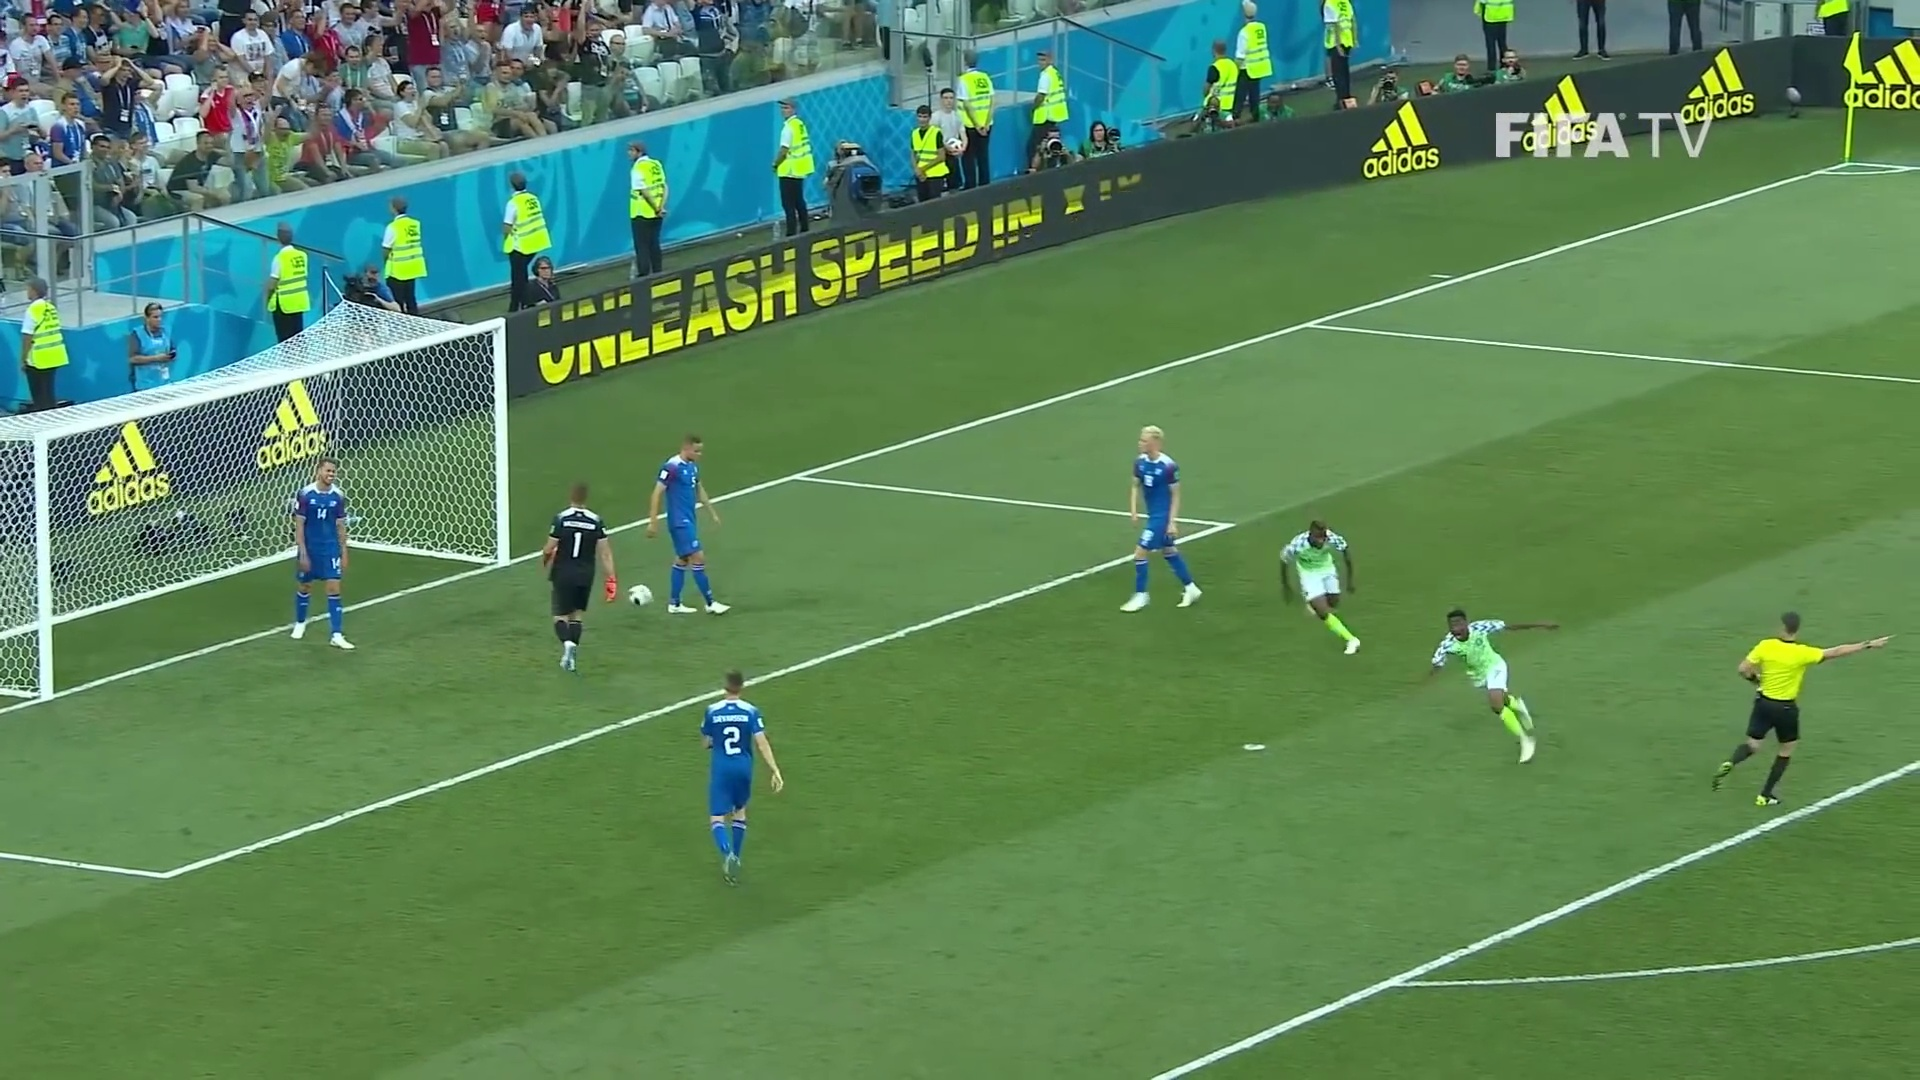ball: (629, 585, 652, 604)
person: (1411, 609, 1558, 763), (697, 668, 782, 882), (646, 437, 730, 614), (542, 483, 615, 670), (1126, 428, 1197, 611), (291, 457, 351, 651), (1277, 522, 1362, 655)
